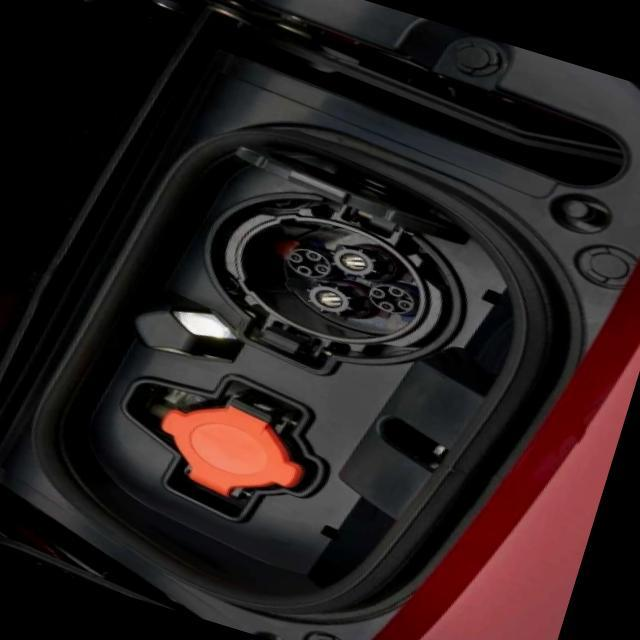CHAdeMO: (226, 193, 476, 386)
